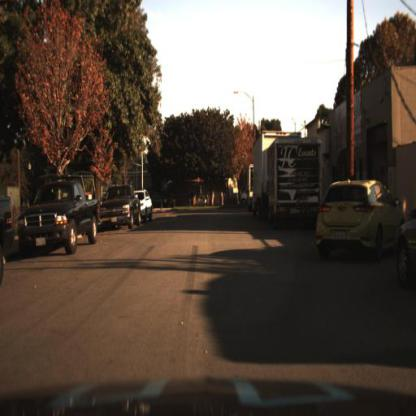car: (11, 172, 110, 266), (17, 170, 100, 263), (317, 181, 402, 264), (266, 136, 326, 222), (97, 181, 143, 235), (99, 183, 143, 232), (138, 186, 156, 225), (141, 184, 157, 224)
truck: (269, 136, 329, 236), (251, 126, 291, 228), (251, 124, 269, 226)
